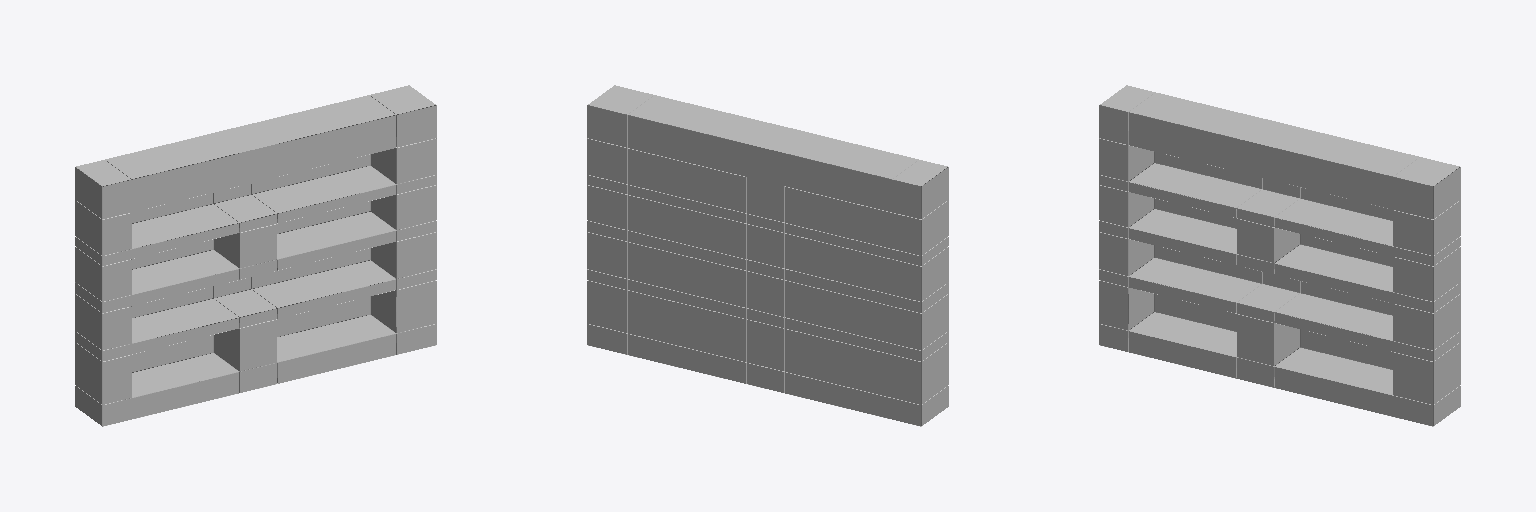
File: mobile.obj
3 views of the same model, side by side, from view 1: azimuth 30°, elevation 25°; view 2: azimuth 150°, elevation 25°; view 3: azimuth 330°, elevation 25° (orthographic).
Parts seen in each view (by area): view 1: Box25; view 2: Box25; view 3: Box25.
Boxes of the visible parts, box(x1,y1,x2,y2) form: Box25: box(75, 85, 436, 426); Box25: box(587, 85, 948, 426); Box25: box(1099, 85, 1460, 426).
Bounding box in the file's own units: 2.71 × 1.86 × 0.3831.